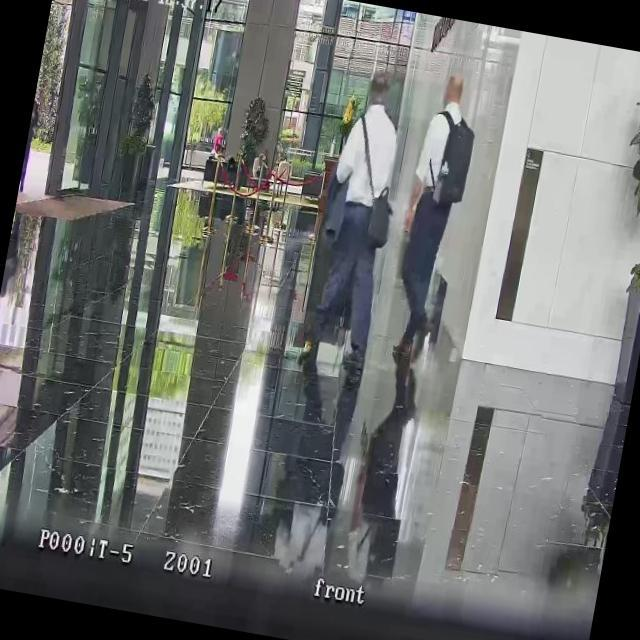person: (296, 63, 416, 381), (382, 65, 484, 362), (18, 95, 42, 193), (212, 127, 226, 154)
